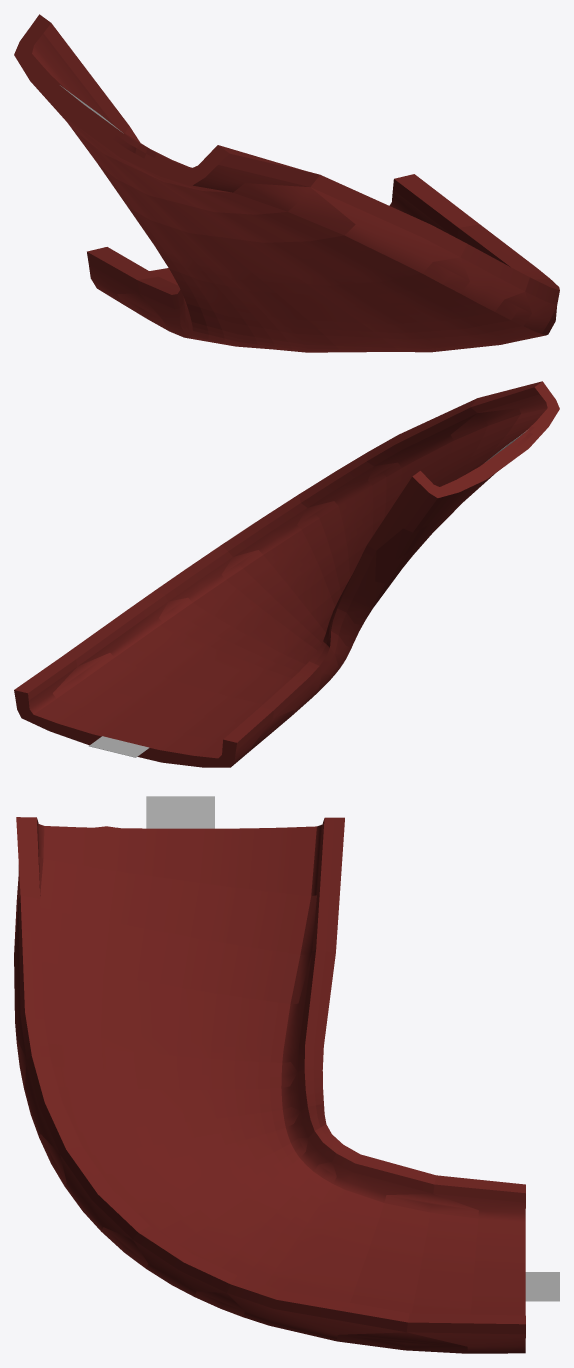
The model's file is 45DownLeft90.fbx.
The picture shows the model from 3 angles, top to bottom: view 1: azimuth 30°, elevation 25°; view 2: azimuth 150°, elevation 25°; view 3: azimuth 270°, elevation 25°; orthographic projection. The views are drawn at different scales.
Visible parts, largest first — view 1: pPipe3; view 2: pPipe3, pasted__pasted__pCube7; view 3: pPipe3, pasted__pasted__pCube36, pasted__pasted__pCube7.
Boxes of the visible parts, x1=… form: pPipe3: x1=14, y1=14, x2=559, y2=352; pPipe3: x1=14, y1=381, x2=559, y2=767; pasted__pasted__pCube7: x1=89, y1=736, x2=149, y2=757; pPipe3: x1=14, y1=817, x2=525, y2=1353; pasted__pasted__pCube36: x1=146, y1=796, x2=214, y2=828; pasted__pasted__pCube7: x1=525, y1=1272, x2=559, y2=1301.
Size of the model in its own units: 15.44 by 11.27 by 15.83.
